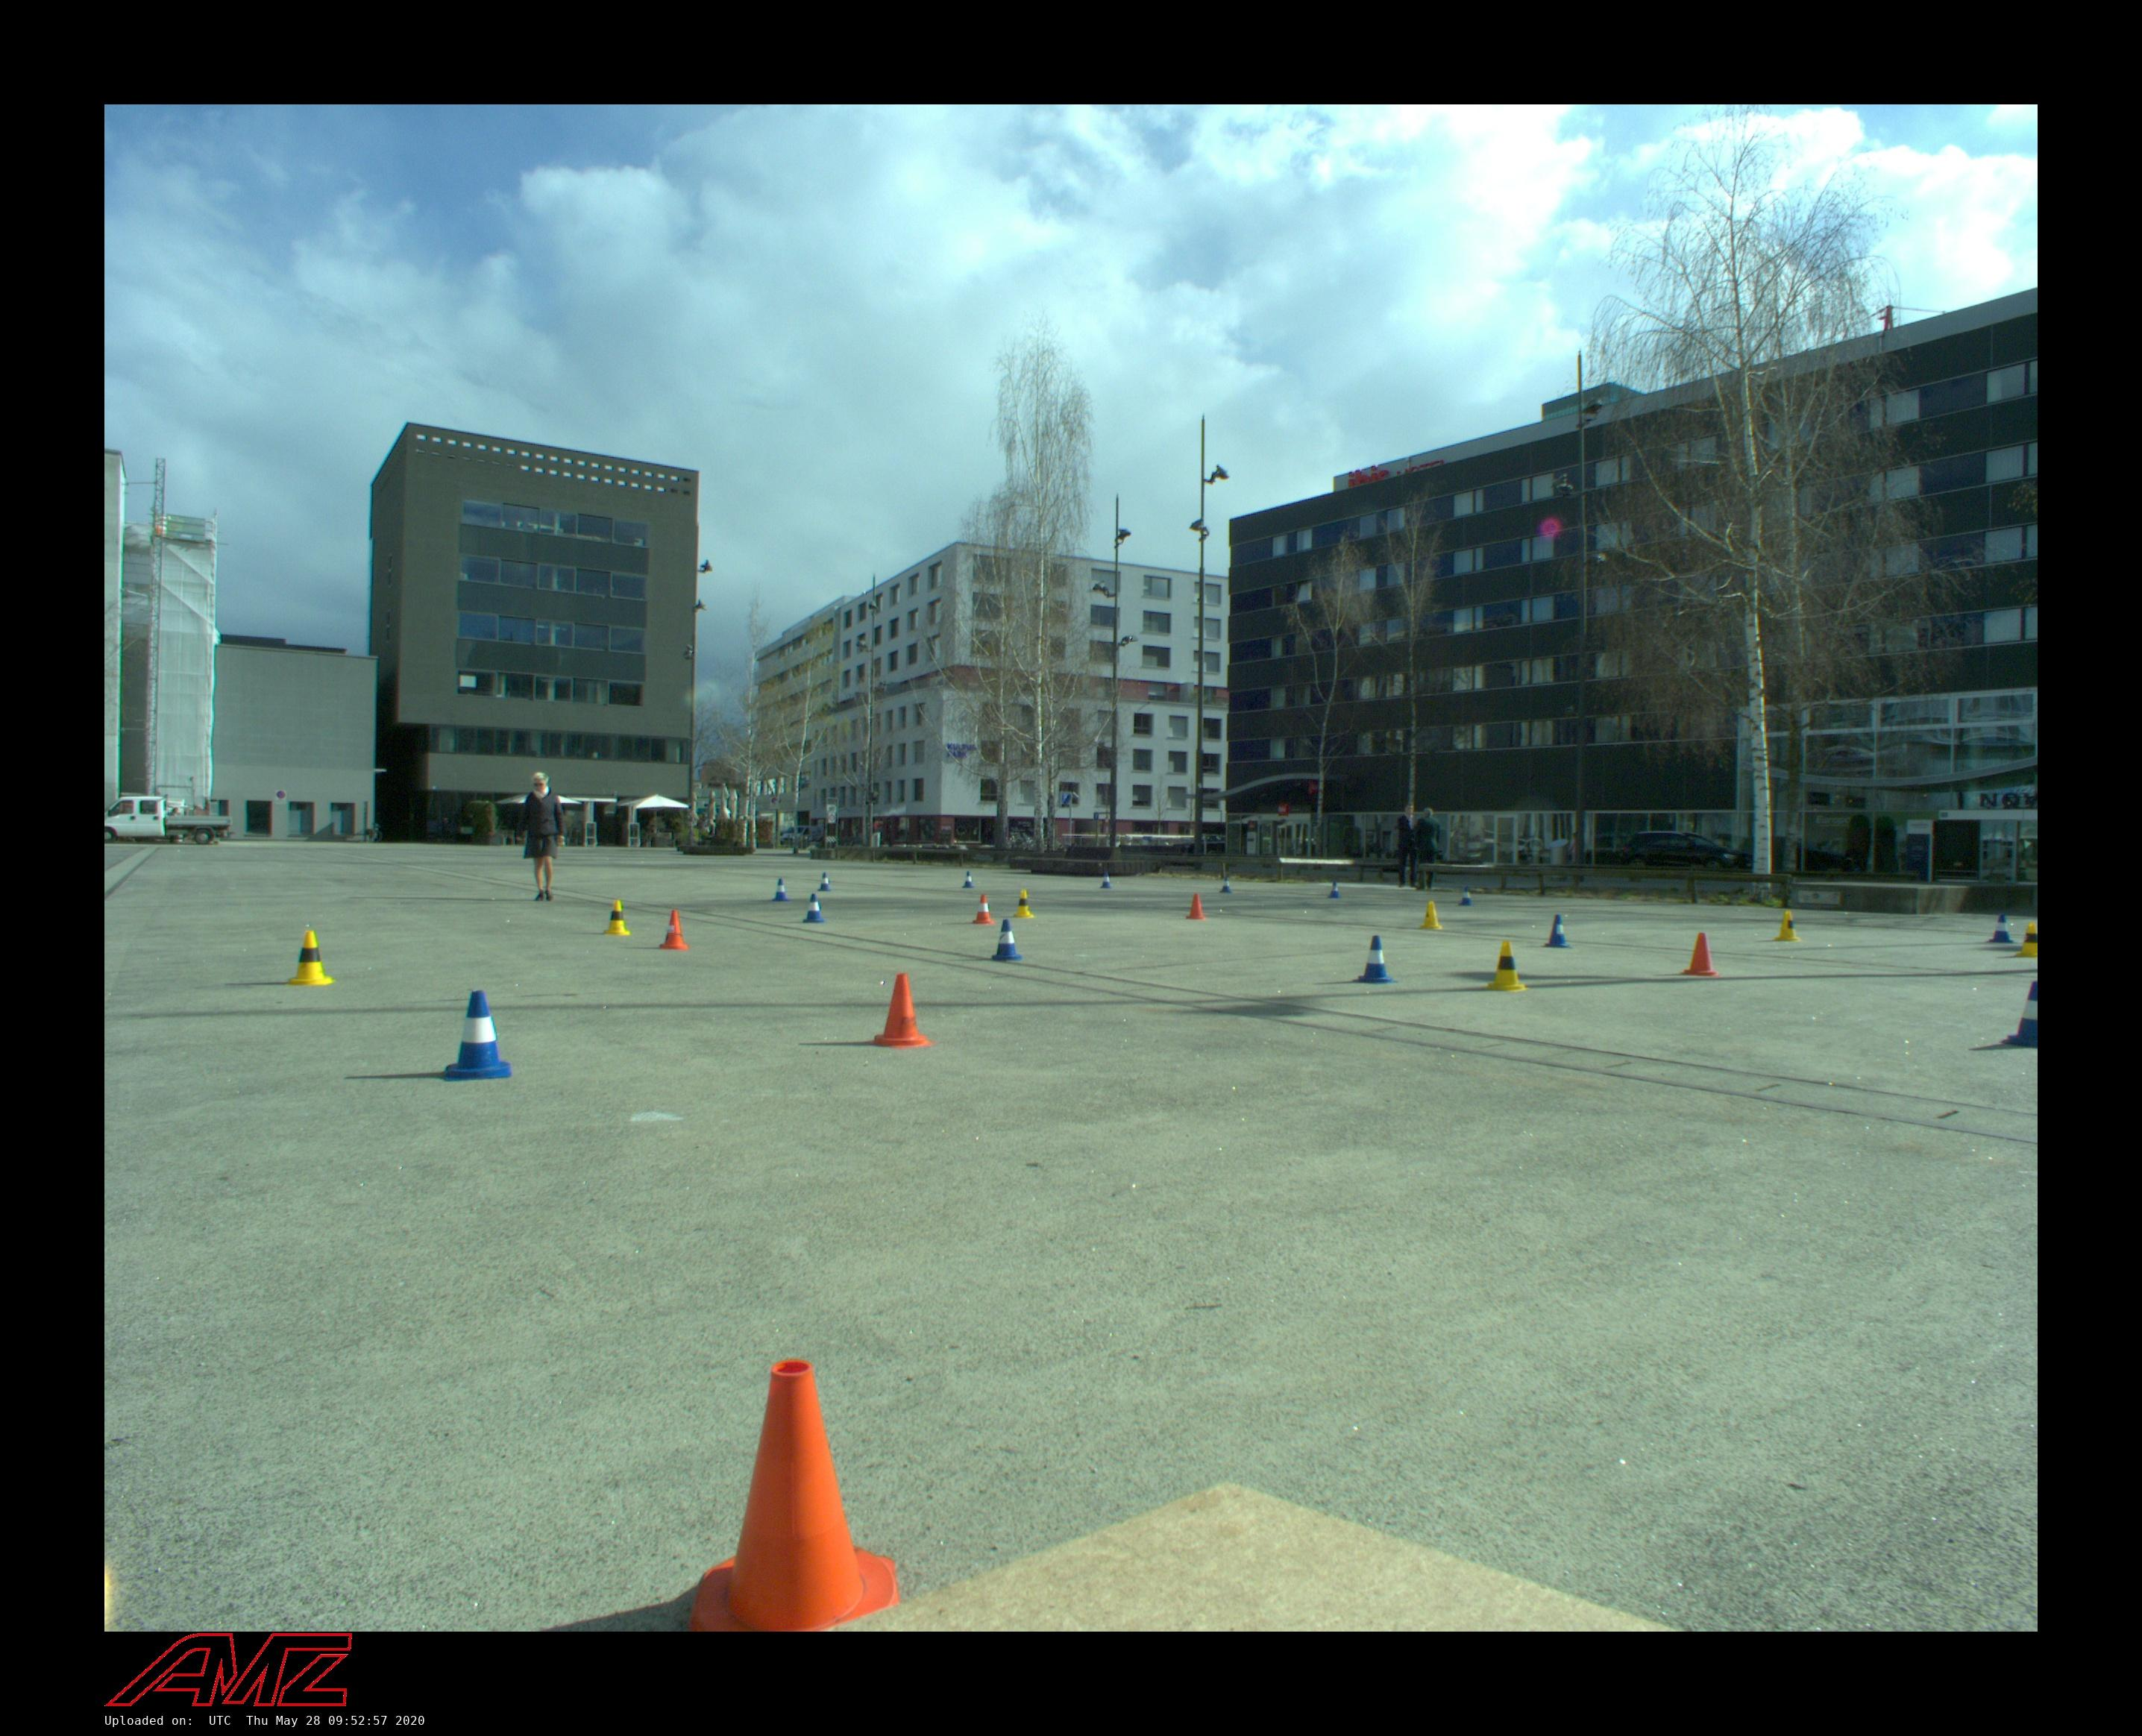blue_cone: (443, 988, 512, 1081), (2000, 980, 2037, 1049), (1354, 934, 1398, 983), (992, 919, 1022, 960), (1543, 914, 1572, 948), (1988, 916, 2014, 944), (803, 893, 826, 923), (772, 877, 792, 902), (1458, 886, 1474, 905), (819, 872, 831, 891), (962, 872, 974, 887), (1100, 872, 1113, 887), (1219, 877, 1231, 893), (1329, 880, 1339, 898)
orange_cone: (687, 1359, 900, 1631), (865, 973, 934, 1049), (1680, 934, 1720, 976), (659, 911, 689, 949), (973, 895, 996, 925), (1185, 893, 1207, 919)
yellow_cone: (287, 930, 338, 987), (1486, 939, 1529, 992), (602, 898, 631, 935), (1773, 911, 1802, 942), (2014, 923, 2037, 958), (1421, 900, 1444, 930), (1013, 889, 1035, 919)
